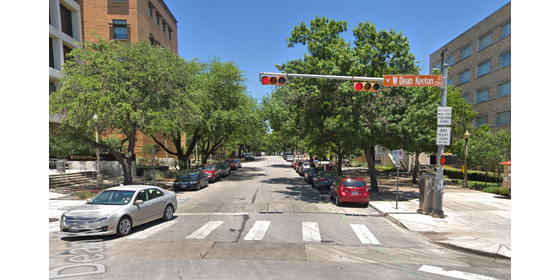bicyclists must use ped signal sign: (436, 102, 453, 126)
no right turn on red sign: (436, 126, 451, 147)
